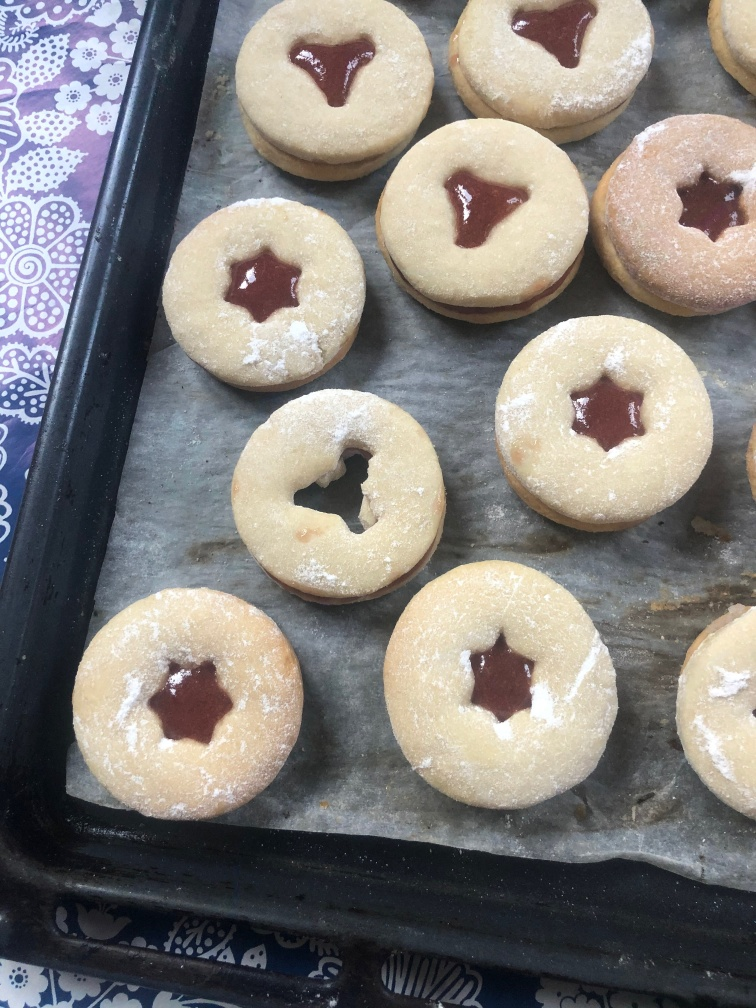christmas shortbread with jam: (384, 554, 621, 809), (71, 585, 301, 819), (226, 384, 449, 619), (494, 315, 716, 533), (382, 118, 578, 323), (163, 193, 361, 382), (236, 1, 428, 179), (598, 113, 756, 313), (445, 1, 656, 146)
